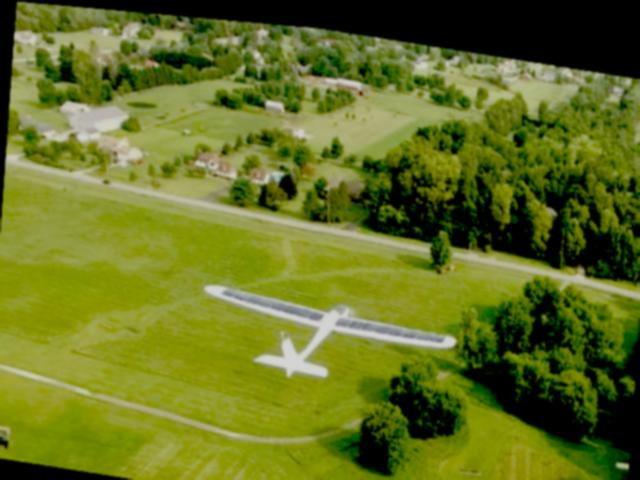uav: (188, 263, 465, 407)
